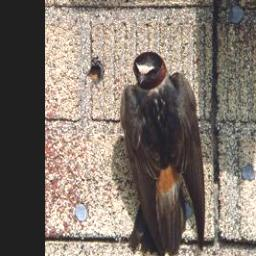Swallow: (121, 50, 208, 256)
